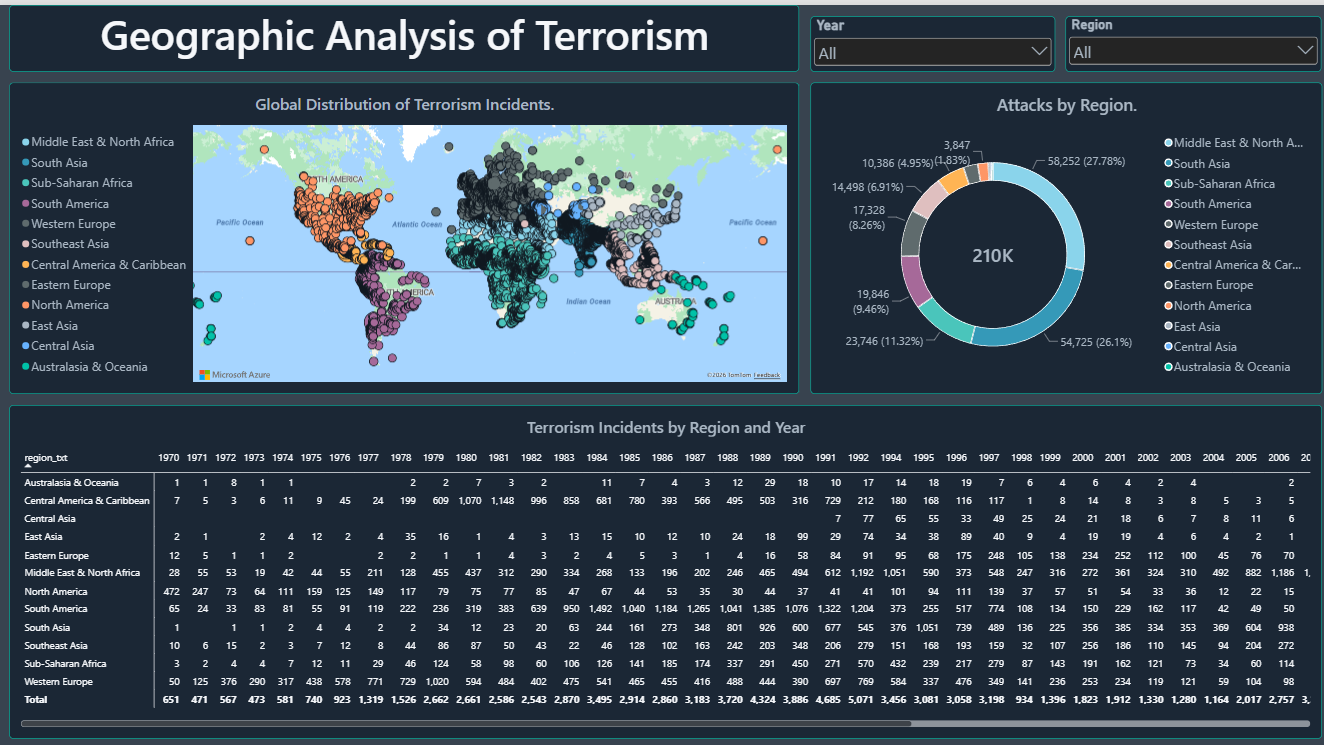

The page's visual inventory and layout, read from the dashboard file:
{"tool":"powerbi","page":{"name":"Geographic Analysis","canvas":[1920,1080],"ordinal":1},"visuals":[{"type":"textbox","title":"Geographic Analysis of Terrorism Incidents.","box":[16,0,1136,96],"z":0},{"type":"azureMap","title":"Global Distribution of Terrorism Incidents.","fields":{"Series":["GlobalTerrorism.region_txt"],"Size":["Measure.Total Attacks"],"X":["GlobalTerrorism.longitude"],"Y":["GlobalTerrorism.latitude"]},"box":[16,112,1136,448],"z":1000},{"type":"donutChart","title":"Attacks by Region.","fields":{"Category":["GlobalTerrorism.region_txt"],"Y":["Measure.Total Attacks"]},"box":[1168,112,736,448],"z":2000},{"type":"slicer","fields":{"Values":["GlobalTerrorism.iyear"]},"box":[1168,16,352,80],"z":3000},{"type":"slicer","fields":{"Values":["GlobalTerrorism.region_txt"]},"box":[1536,16,368,80],"z":4000},{"type":"pivotTable","title":"Terrorism Incidents by Region and Year","fields":{"Columns":["GlobalTerrorism.iyear"],"Rows":["GlobalTerrorism.region_txt"],"Values":["Measure.Total Attacks"]},"box":[16,576,1888,480],"z":5000}]}

Visuals, with their boxes in screenshot pixels (x1, y1, x2, y2), scaled from the page's 1920x1080 canvas onto the 1324x745 screenshot:
"Geographic Analysis of Terrorism Incidents." textbox: [left=11, top=0, right=794, bottom=66]
"Global Distribution of Terrorism Incidents." azureMap: [left=11, top=77, right=794, bottom=386]
"Attacks by Region." donutChart: [left=805, top=77, right=1313, bottom=386]
slicer - GlobalTerrorism.iyear: [left=805, top=11, right=1048, bottom=66]
slicer - GlobalTerrorism.region_txt: [left=1059, top=11, right=1313, bottom=66]
"Terrorism Incidents by Region and Year" pivotTable: [left=11, top=397, right=1313, bottom=728]
